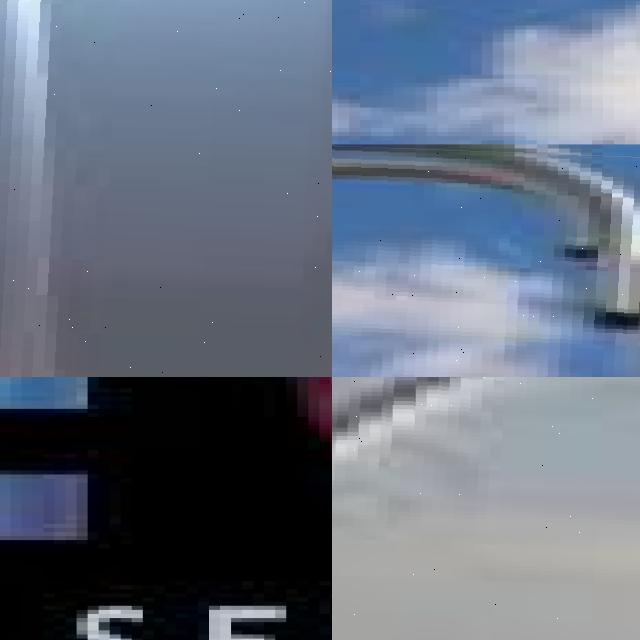street light: (0, 0, 332, 377), (332, 377, 640, 640), (332, 144, 640, 377), (501, 467, 640, 640)
